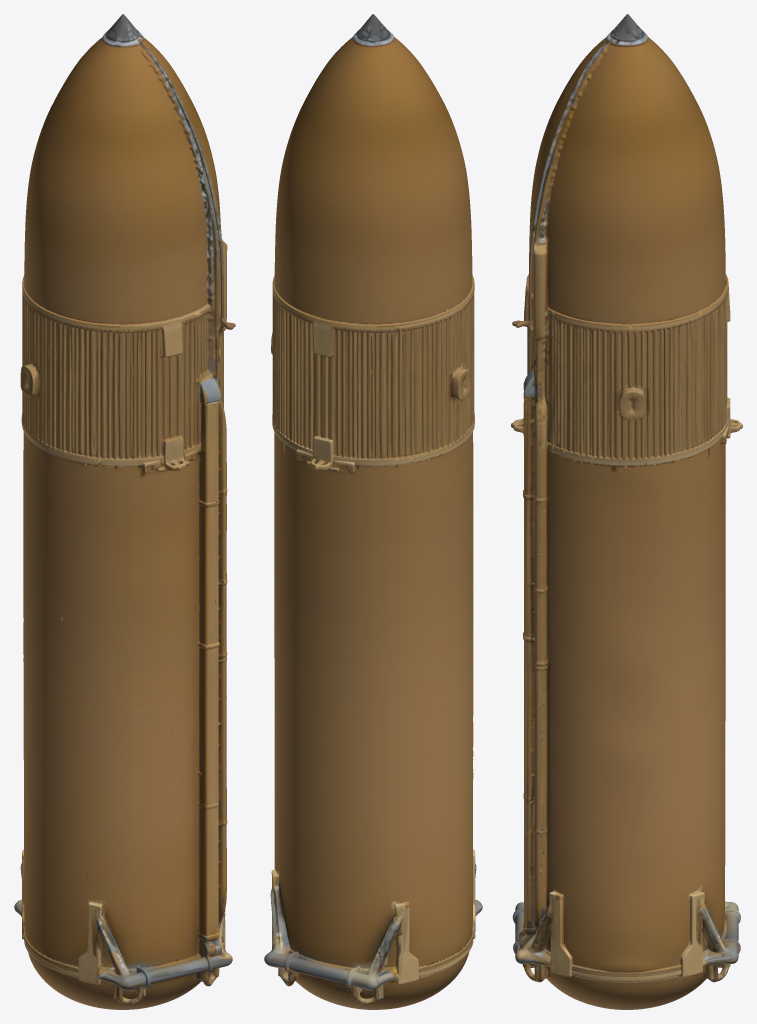
Rendered from Traegerrakete.glb.
3 views of the same model, side by side, from view 1: azimuth 30°, elevation 25°; view 2: azimuth 150°, elevation 25°; view 3: azimuth 270°, elevation 25° (orthographic).
Parts seen in each view (by area): view 1: node_0; view 2: node_0; view 3: node_0.
Boxes of the visible parts, x1=… form: node_0: x1=14, y1=14, x2=235, y2=1009; node_0: x1=264, y1=14, x2=482, y2=1009; node_0: x1=511, y1=14, x2=742, y2=1009.
Bounding box in the file's own units: 0.241 × 1.2 × 0.2555.
Materials: 1 (1 with a texture image).
